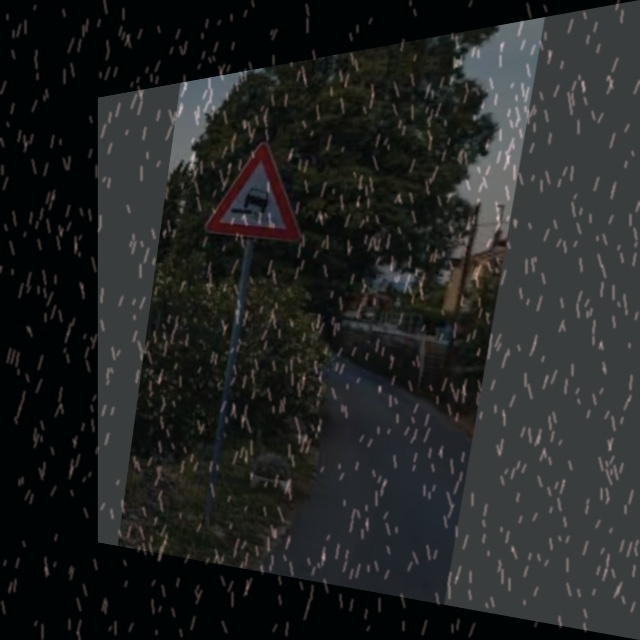Loose_Gravel: (203, 127, 313, 251)
